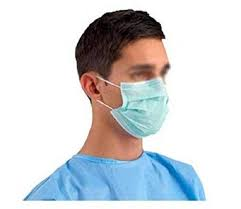flumask: (112, 75, 173, 140)
